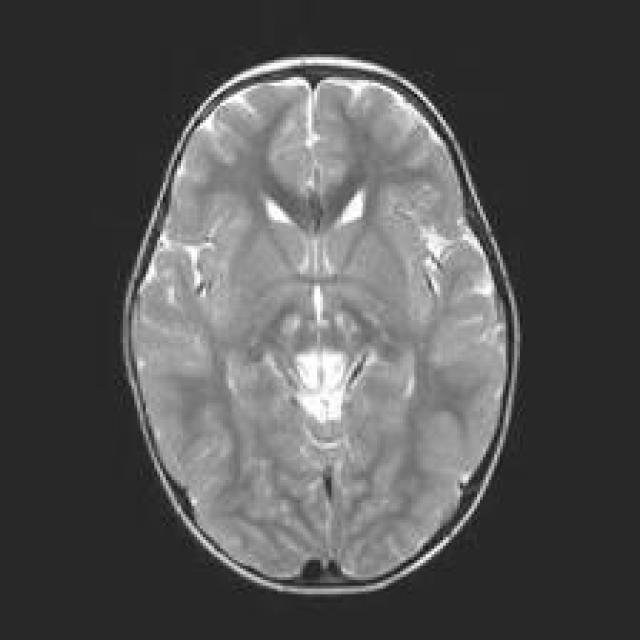no_tumor: (121, 47, 528, 610)
